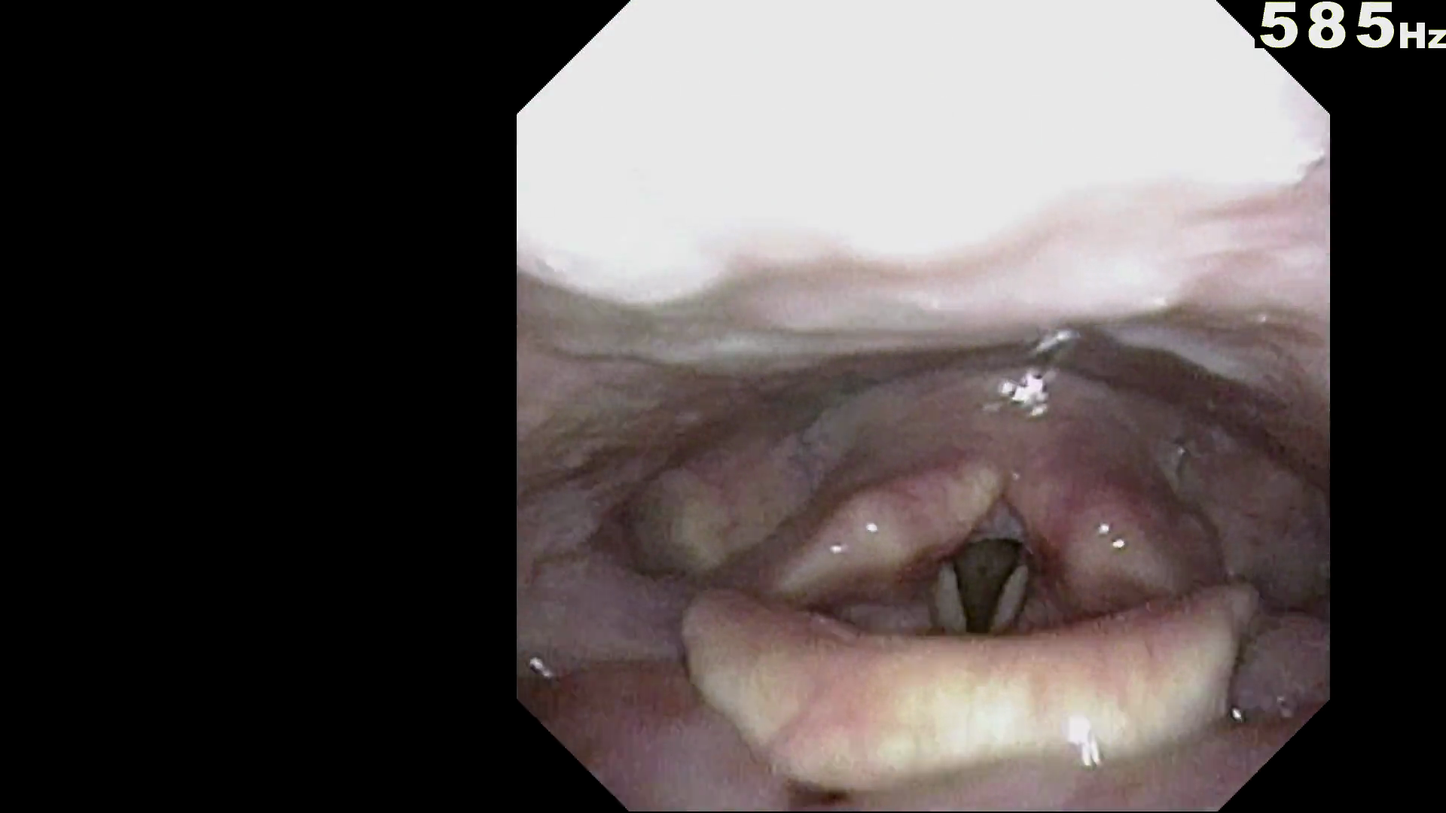epiglottis: (667, 599, 1209, 739)
trachea: (913, 533, 1042, 627)
